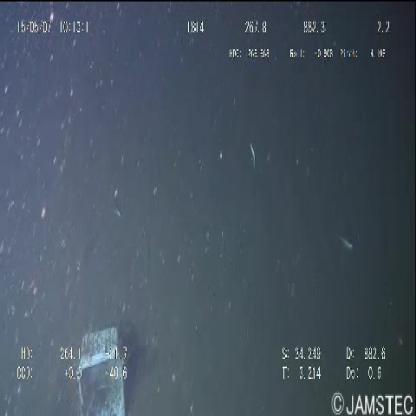Rác: (71, 316, 127, 414)
